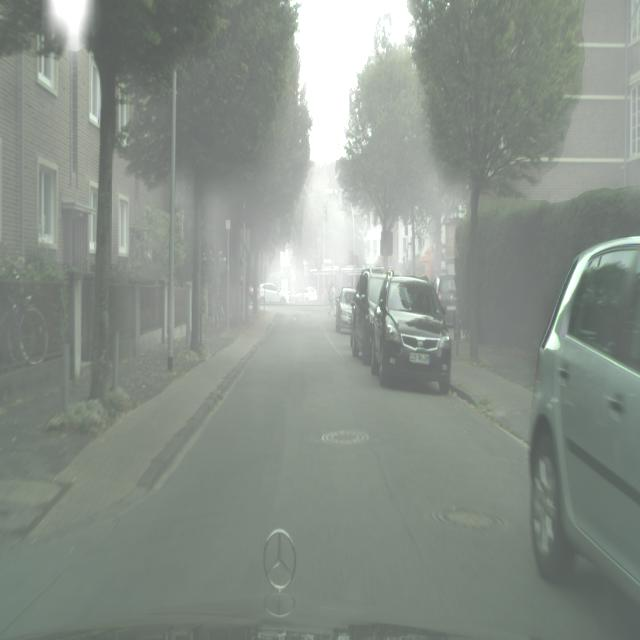car: (0, 258, 48, 367)
truck: (528, 235, 640, 606), (370, 272, 452, 394), (349, 268, 387, 364), (335, 286, 357, 334), (436, 274, 458, 317), (258, 282, 290, 306)
